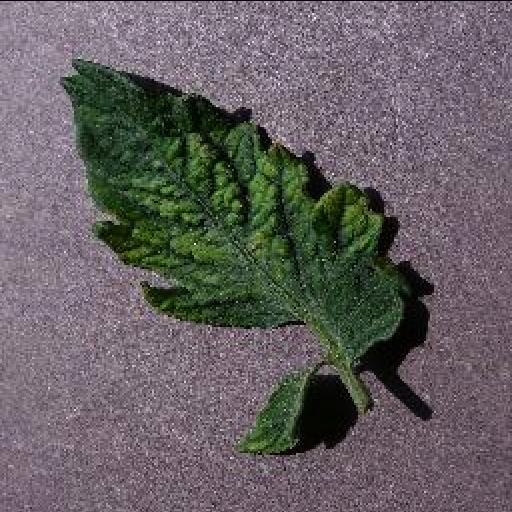disease_tomato: (55, 56, 413, 454)
